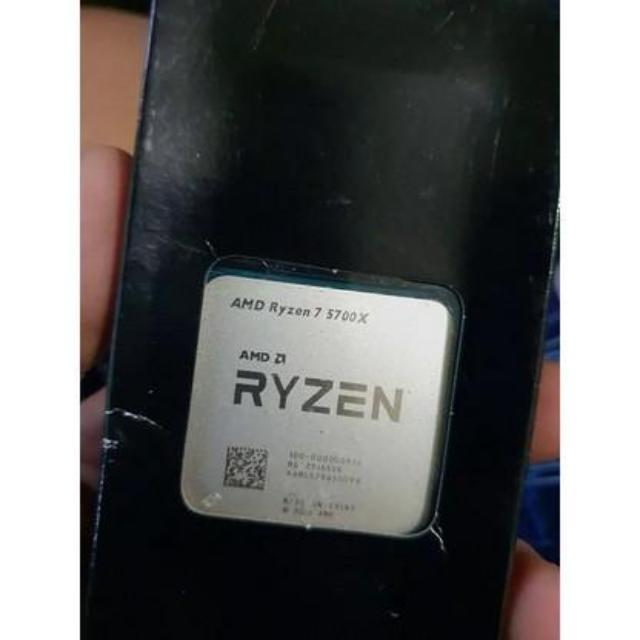CPU: (178, 274, 454, 536)
